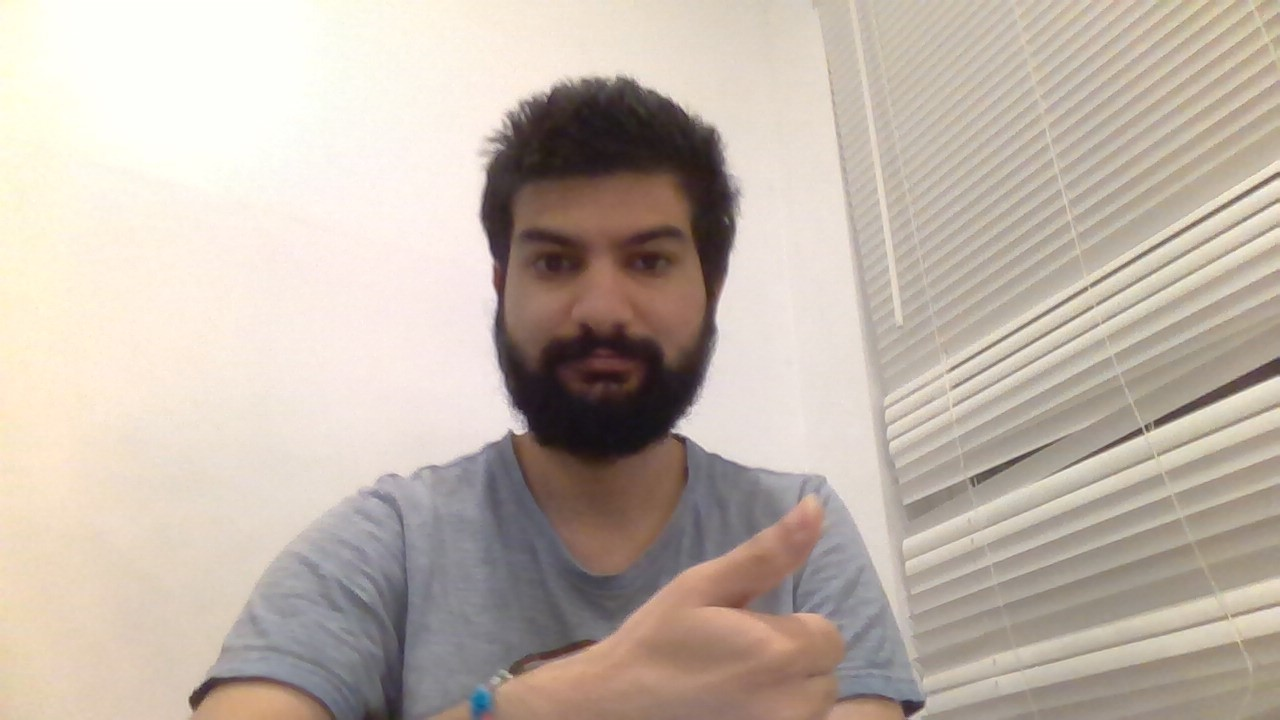up: (674, 488, 858, 720)
